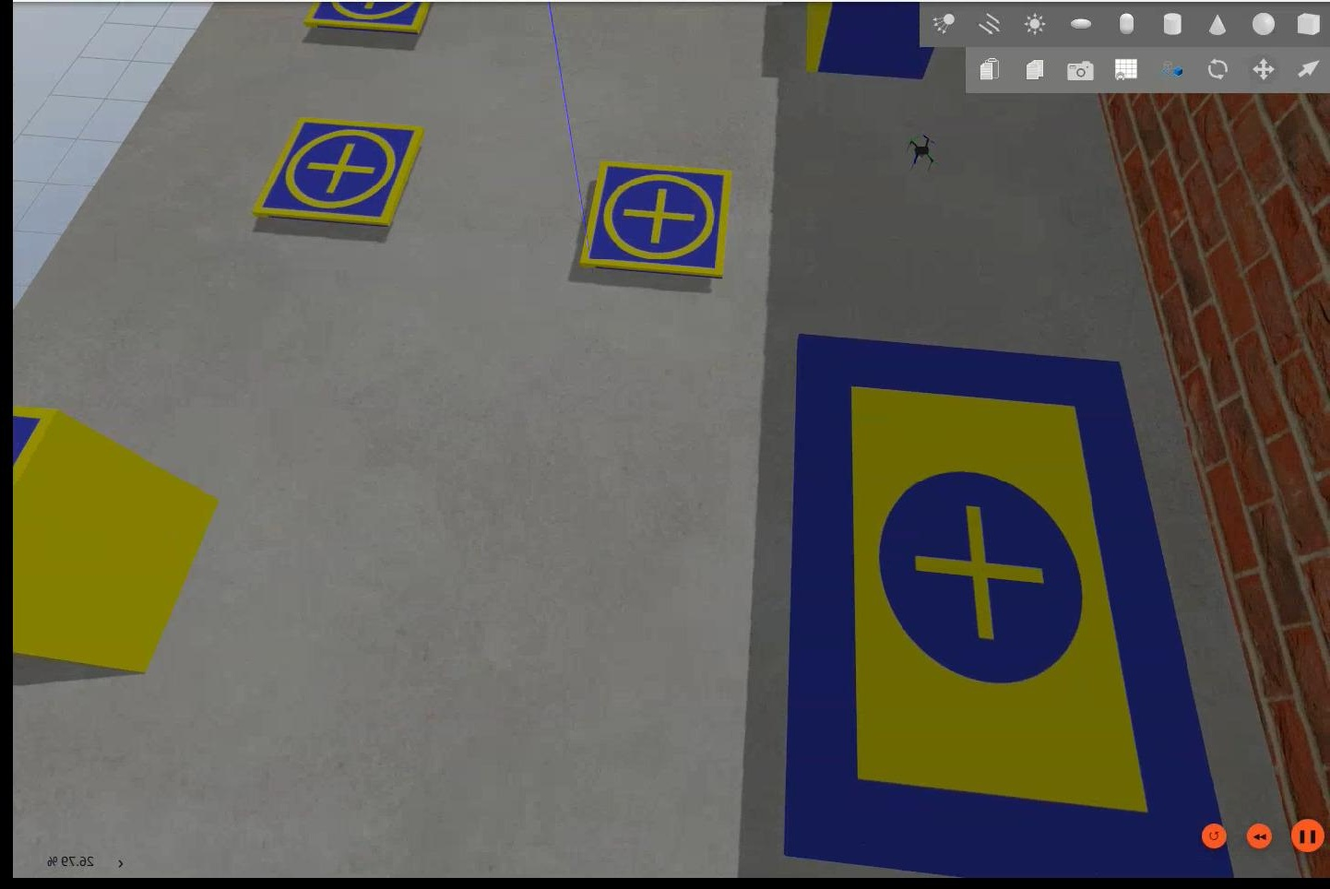large_base: (780, 334, 1234, 876)
small_base: (247, 119, 426, 229), (578, 161, 731, 280), (303, 1, 432, 36)
